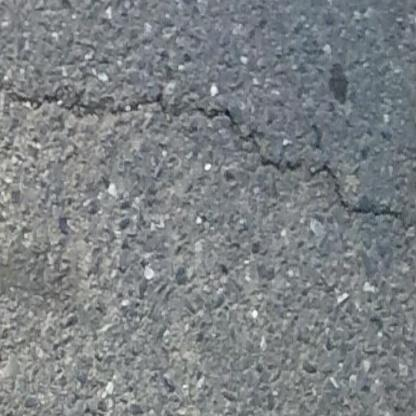Cracks: (0, 70, 416, 236)
